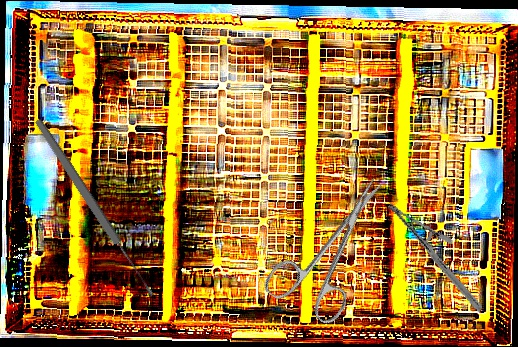Iris Scissors: (260, 160, 414, 333)
Needle Holder: (365, 201, 505, 313)
Surgical Spoon: (32, 116, 157, 300)
